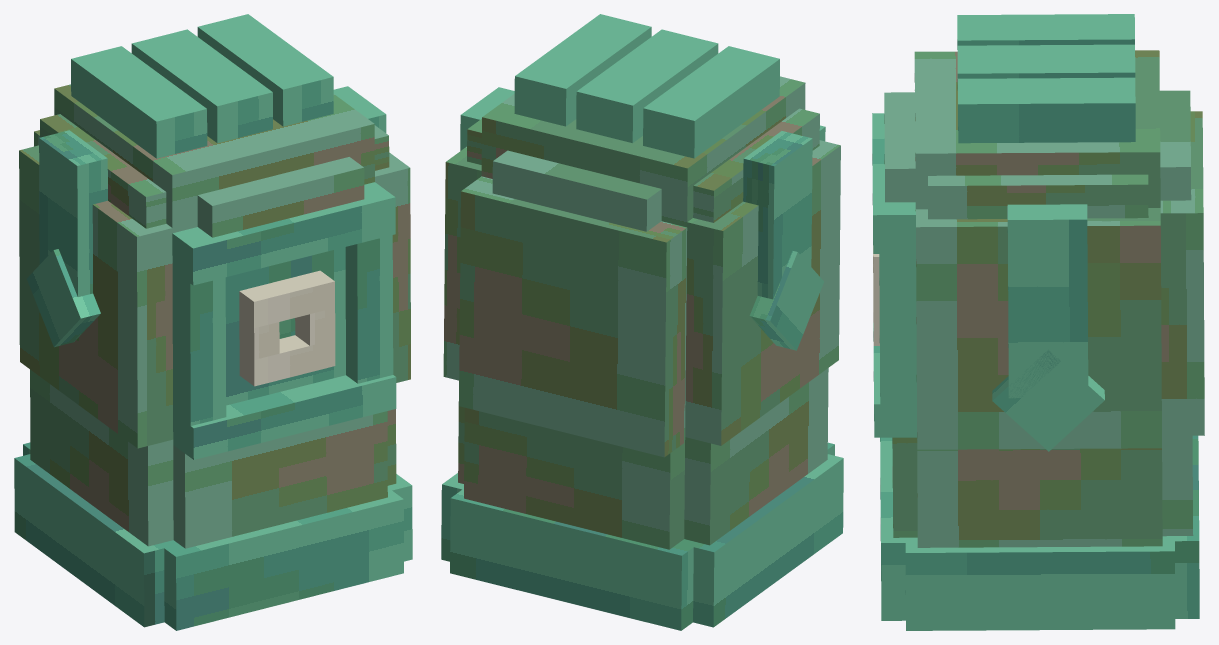
Rendered from goblin.gltf.
The picture shows the model from 3 angles, left to right: view 1: azimuth 30°, elevation 25°; view 2: azimuth 150°, elevation 25°; view 3: azimuth 270°, elevation 25°; orthographic projection. The views are drawn at different scales.
Parts seen in each view (by area): view 1: cube_1, cube_15, cube_13, cube_0, cube_12, cube_14, cube_18, cube_9, cube_17, cube_3, cube_10, cube_8 (+12 smaller); view 2: cube_4, cube_1, cube_13, cube_15, cube_12, cube_14, cube_0, cube_9, cube_10, cube_8, cube_6, cube_7 (+4 smaller); view 3: cube_2, cube_12, cube_14, cube_24, cube_0, cube_7, cube_4, cube_16, cube_5, cube_6, cube_15, cube_8 (+5 smaller).
Boxes of the visible parts, x1=… form: cube_1: x1=19, y1=145, x2=173, y2=448; cube_15: x1=23, y1=442, x2=403, y2=630; cube_13: x1=173, y1=411, x2=387, y2=548; cube_0: x1=54, y1=84, x2=374, y2=233; cube_12: x1=30, y1=369, x2=396, y2=546; cube_14: x1=14, y1=454, x2=412, y2=627; cube_18: x1=172, y1=182, x2=395, y2=285; cube_9: x1=71, y1=46, x2=207, y2=158; cube_17: x1=173, y1=375, x2=396, y2=459; cube_3: x1=172, y1=227, x2=226, y2=457; cube_10: x1=39, y1=130, x2=107, y2=296; cube_8: x1=131, y1=29, x2=272, y2=143; cube_4: x1=459, y1=176, x2=687, y2=457; cube_1: x1=682, y1=140, x2=840, y2=445; cube_13: x1=464, y1=407, x2=684, y2=549; cube_15: x1=450, y1=442, x2=834, y2=630; cube_12: x1=458, y1=368, x2=828, y2=545; cube_14: x1=441, y1=454, x2=843, y2=627; cube_0: x1=481, y1=76, x2=805, y2=227; cube_9: x1=643, y1=46, x2=779, y2=158; cube_10: x1=743, y1=131, x2=812, y2=299; cube_8: x1=576, y1=29, x2=718, y2=143; cube_6: x1=492, y1=150, x2=661, y2=231; cube_7: x1=514, y1=14, x2=651, y2=126; cube_2: x1=916, y1=208, x2=1161, y2=449; cube_12: x1=917, y1=438, x2=1162, y2=547; cube_14: x1=905, y1=536, x2=1175, y2=630; cube_24: x1=1007, y1=204, x2=1088, y2=398; cube_0: x1=914, y1=50, x2=1160, y2=210; cube_7: x1=958, y1=77, x2=1135, y2=143; cube_4: x1=1160, y1=111, x2=1204, y2=435; cube_16: x1=879, y1=197, x2=916, y2=437; cube_5: x1=928, y1=174, x2=1148, y2=219; cube_6: x1=884, y1=90, x2=1191, y2=202; cube_15: x1=880, y1=435, x2=1199, y2=620; cube_8: x1=957, y1=44, x2=1135, y2=90.
Bounding box in the file's own units: 0.3887 × 0.5656 × 0.3397.
Materials: 3 (3 with a texture image).
